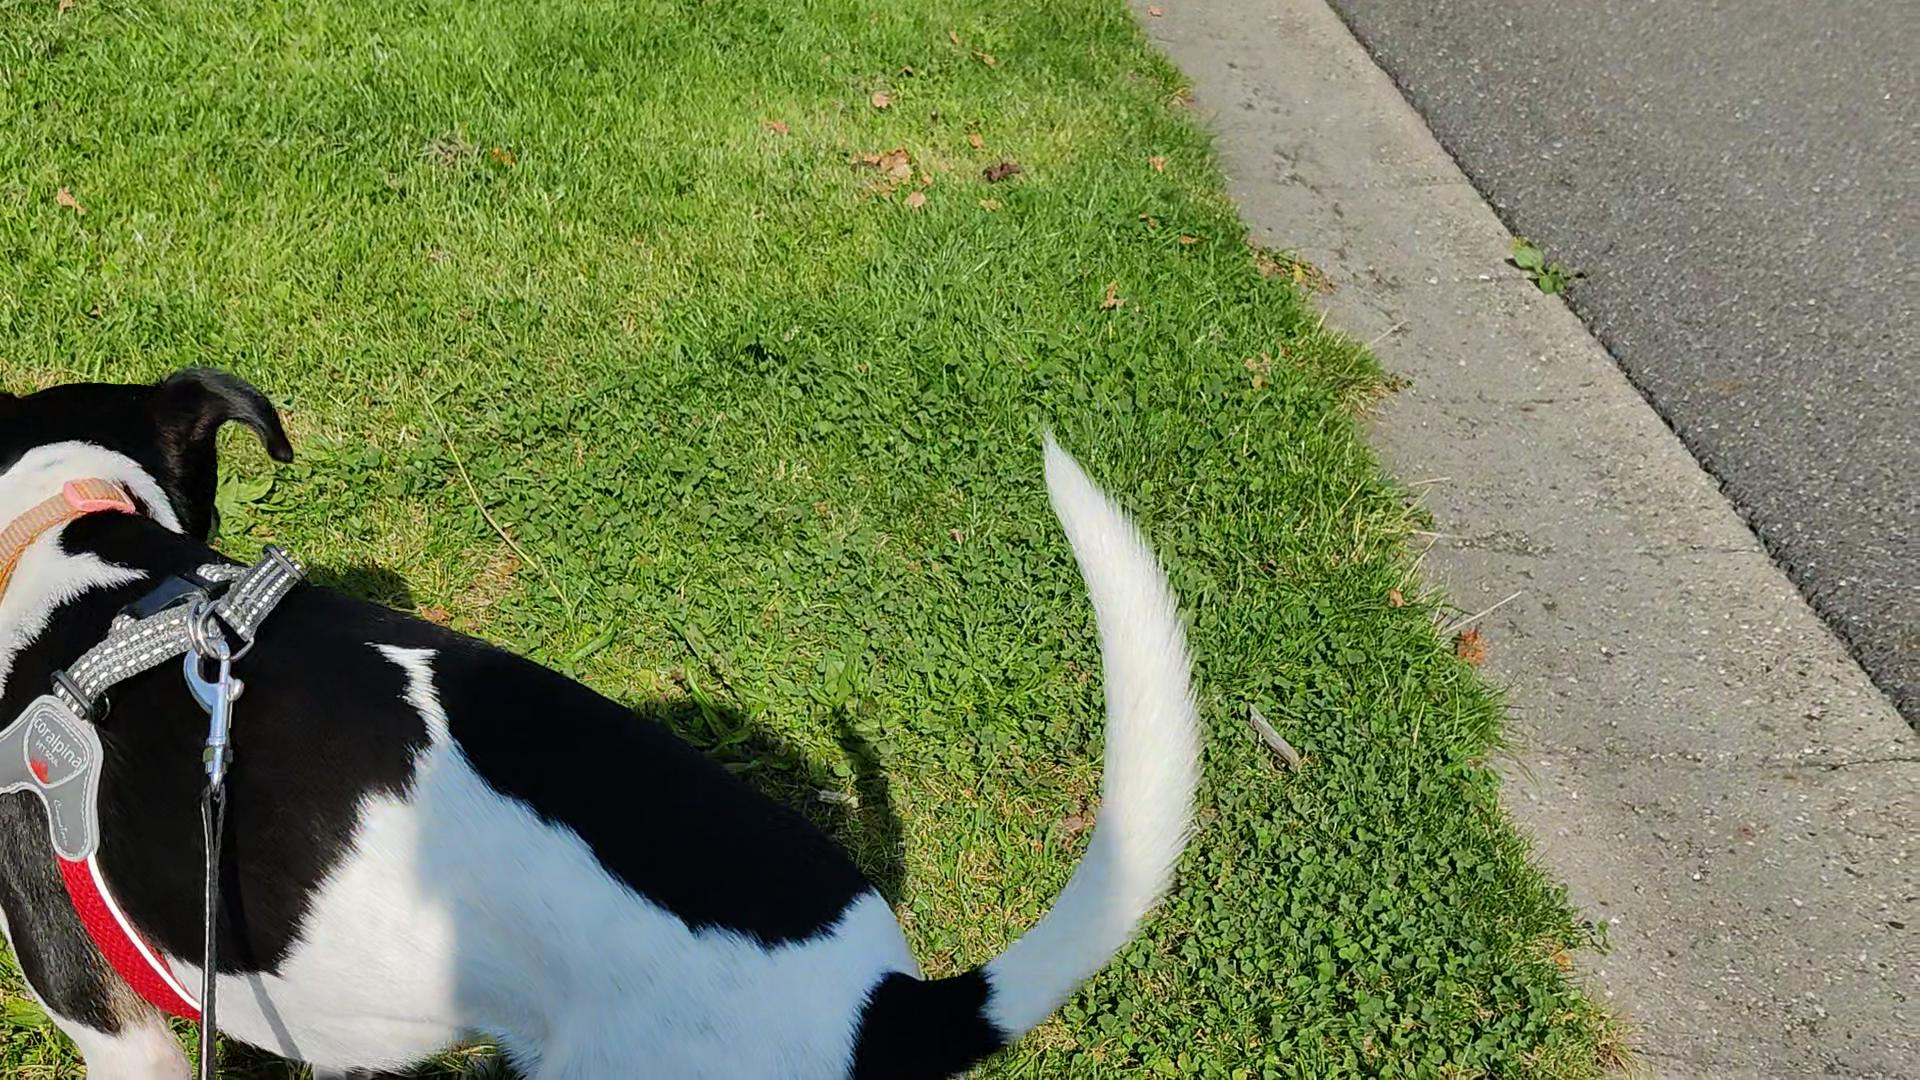Dog: (0, 352, 1208, 1079)
